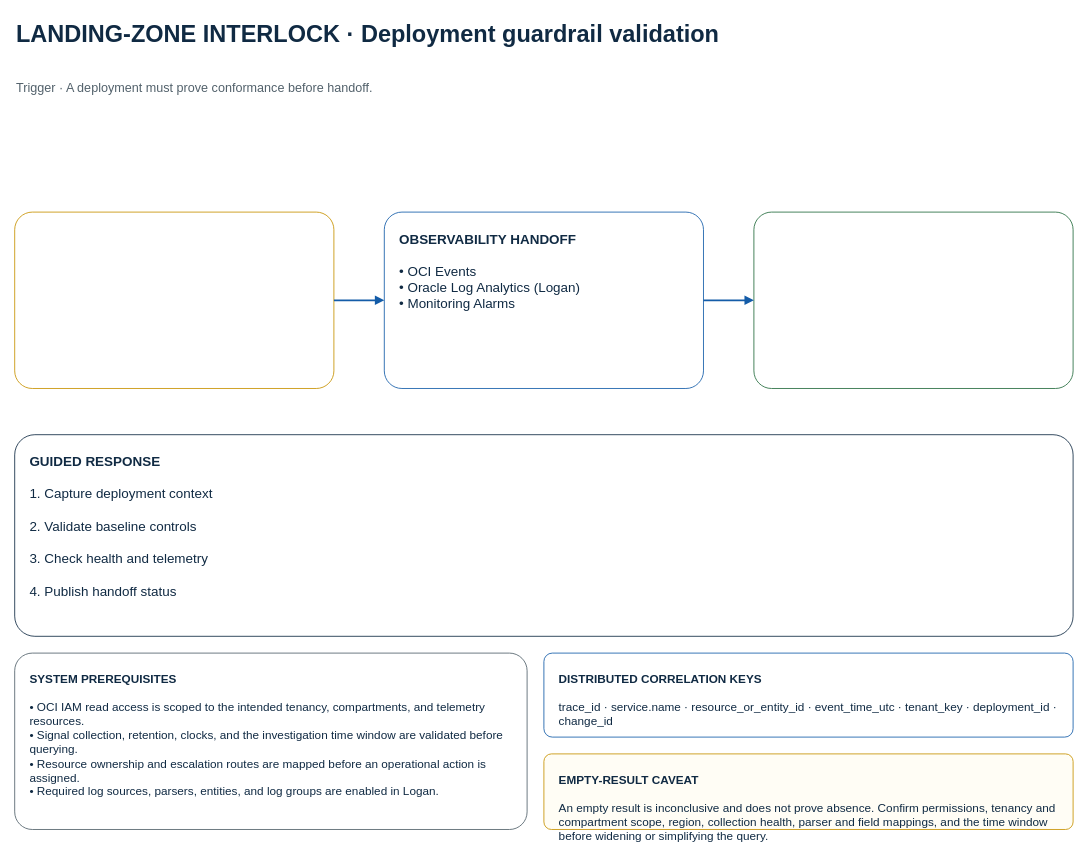
This 1088x858 diagram has some shape labels left out. The shapes that lost their labels are listed below. From the top down, each one's centre as x and y in pixels, then its label:
(174,299): SOURCE EVIDENCE • Deployment events • Configuration evidence • Health signals
(913,299): OPERATIONAL OUTCOME • Provide a clear go/no-go record for the operating team.
